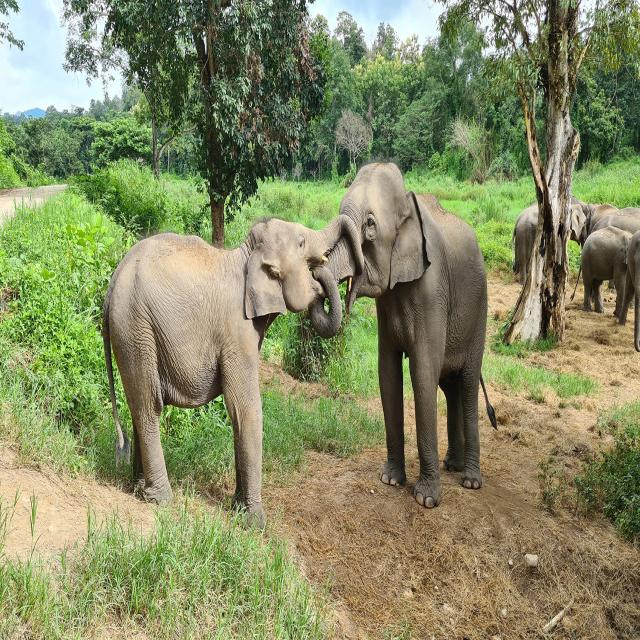Elephant: (102, 214, 368, 514), (324, 160, 500, 516), (576, 228, 636, 322), (508, 202, 539, 276)
